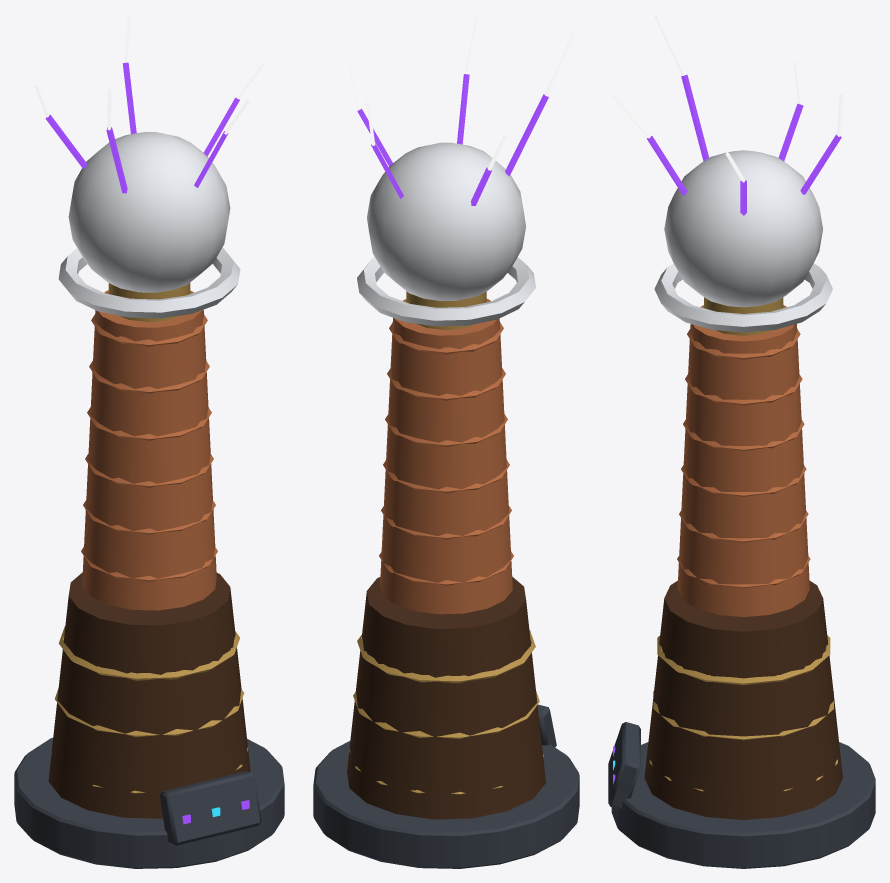
File: particle_tesla_emitter.glb
3 views of the same model, side by side, from view 1: azimuth 30°, elevation 25°; view 2: azimuth 150°, elevation 25°; view 3: azimuth 270°, elevation 25° (orthographic). The views are drawn at different scales.
Visible parts, largest first — view 1: particle_tesla_emitter; view 2: particle_tesla_emitter; view 3: particle_tesla_emitter.
Boxes of the visible parts, box(x1,y1,x2,y2) form: particle_tesla_emitter: box(14, 14, 284, 868); particle_tesla_emitter: box(313, 14, 579, 868); particle_tesla_emitter: box(608, 14, 875, 868).
Size of the model in its own units: 0.7975 by 2.53 by 0.8081.
